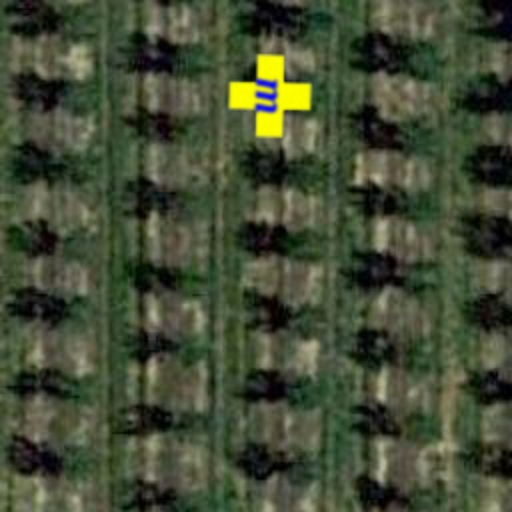cross: (228, 54, 312, 138)
